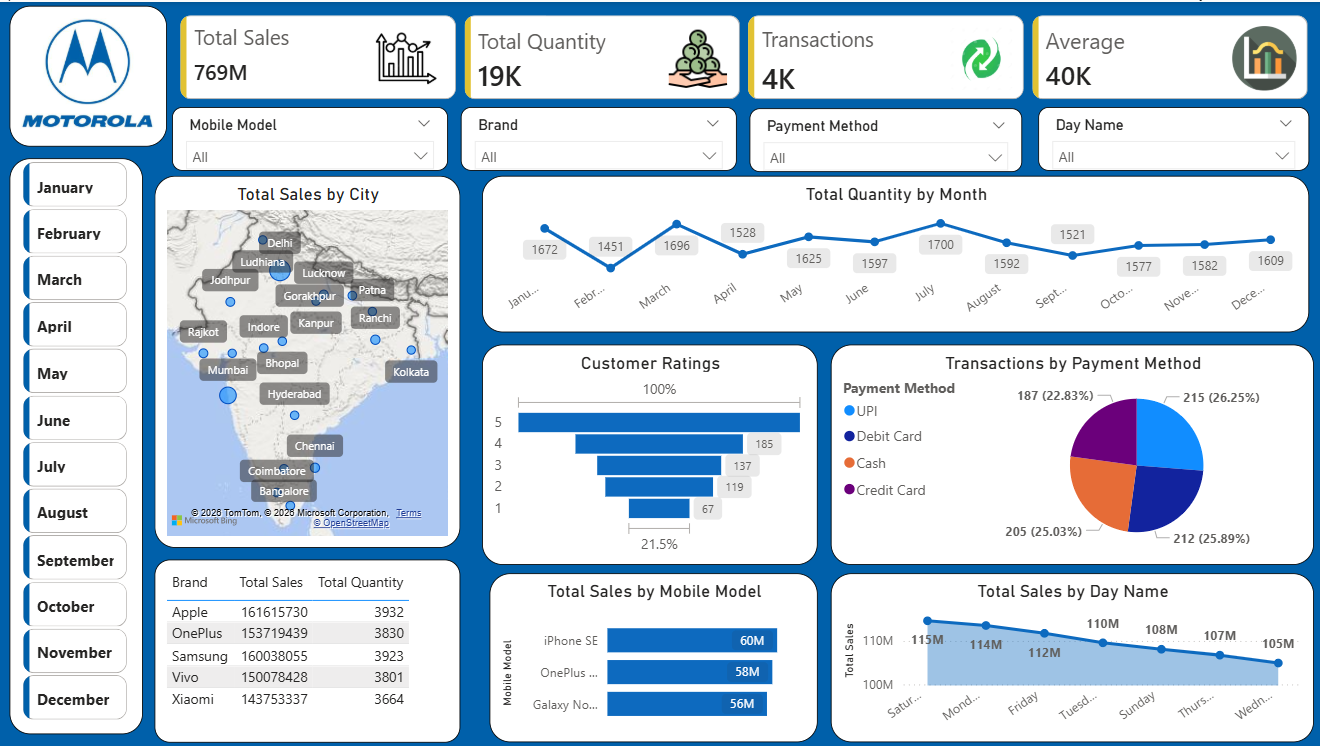

The dashboard page shown, as its layout file describes it:
{"tool":"powerbi","page":{"name":"Page 1","canvas":[1280,720],"ordinal":0},"visuals":[{"type":"shape","box":[12.1,3.6,152,136.3],"z":0},{"type":"image","box":[22.9,3.6,129.1,130.3],"z":1000},{"type":"shape","box":[12.3,150.7,128.8,556.2],"z":2000},{"type":"advancedSlicerVisual","fields":{"Values":["Sales_Data.Date.Variation.Date Hierarchy.Month"]},"box":[20.5,149.3,111,558.9],"z":3000},{"type":"cardVisual","fields":{"Data":["Sales_Data.Total Sales","Sales_Data.Total Quantity","Sales_Data.Transactions","Sales_Data.Average"]},"box":[164.1,0,1116,107.4],"z":4000},{"type":"map","fields":{"Category":["Sales_Data.City"],"Size":["Sales_Data.Total Sales"]},"box":[152.3,167.4,295,359.5],"z":5000},{"type":"lineChart","fields":{"Y":["Sales_Data.Total Quantity"],"Category":["Sales_Data.Date.Variation.Date Hierarchy.Month","Sales_Data.Date.Variation.Date Hierarchy.Day"]},"box":[467.9,167.4,798.6,150.9],"z":6000},{"type":"clusteredBarChart","fields":{"Category":["Sales_Data.Mobile Model"],"Y":["Sales_Data.Total Sales"]},"box":[474.8,551.6,317,163.3],"z":7000},{"type":"pieChart","fields":{"Category":["Sales_Data.Payment Method"],"Y":["Sales_Data.Transactions"]},"box":[804.1,330.7,466.6,212.7],"z":8000},{"type":"funnel","title":"Customer Ratings","fields":{"Category":["Sales_Data.Customer Ratings"],"Y":["CountNonNull(Sales_Data.Customer Ratings)"]},"box":[467.9,330.7,323.8,212.7],"z":9000},{"type":"areaChart","fields":{"Category":["Sales_Data.Day Name"],"Y":["Sales_Data.Total Sales"]},"box":[804.1,551.6,466.6,163.3],"z":10000},{"type":"tableEx","fields":{"Values":["Sales_Data.Brand","Sales_Data.Total Sales","Sales_Data.Total Quantity"]},"box":[152.3,537.9,295,177],"z":11000},{"type":"slicer","fields":{"Values":["Sales_Data.Mobile Model"]},"box":[168.8,101.5,266.2,61.7],"z":12000},{"type":"slicer","fields":{"Values":["Sales_Data.Brand"]},"box":[447.3,101.5,266.2,61.7],"z":13000},{"type":"slicer","fields":{"Values":["Sales_Data.Payment Method"]},"box":[725.9,102.9,263.5,61.7],"z":14000},{"type":"slicer","fields":{"Values":["Sales_Data.Day Name"]},"box":[1005,101.3,261.8,61.5],"z":15000}]}

Visuals, with their boxes in screenshot pixels (x1, y1, x2, y2), scaled from the page's 1280x720 canvas onto the 1320x746 screenshot:
shape: rect(12, 4, 169, 145)
image: rect(24, 4, 157, 139)
shape: rect(13, 156, 146, 732)
advancedSlicerVisual - Sales_Data.Date.Variation.Date Hierarchy.Month: rect(21, 155, 136, 734)
cardVisual - Sales_Data.Total Sales x Sales_Data.Total Quantity: rect(169, 0, 1319, 111)
map - Sales_Data.City x Sales_Data.Total Sales: rect(157, 173, 461, 546)
lineChart - Sales_Data.Total Quantity x Sales_Data.Date.Variation.Date Hierarchy.Month: rect(483, 173, 1306, 330)
clusteredBarChart - Sales_Data.Mobile Model x Sales_Data.Total Sales: rect(490, 572, 817, 741)
pieChart - Sales_Data.Payment Method x Sales_Data.Transactions: rect(829, 343, 1310, 563)
"Customer Ratings" funnel: rect(483, 343, 816, 563)
areaChart - Sales_Data.Day Name x Sales_Data.Total Sales: rect(829, 572, 1310, 741)
tableEx - Sales_Data.Brand x Sales_Data.Total Sales: rect(157, 557, 461, 741)
slicer - Sales_Data.Mobile Model: rect(174, 105, 449, 169)
slicer - Sales_Data.Brand: rect(461, 105, 736, 169)
slicer - Sales_Data.Payment Method: rect(749, 107, 1020, 171)
slicer - Sales_Data.Day Name: rect(1036, 105, 1306, 169)
